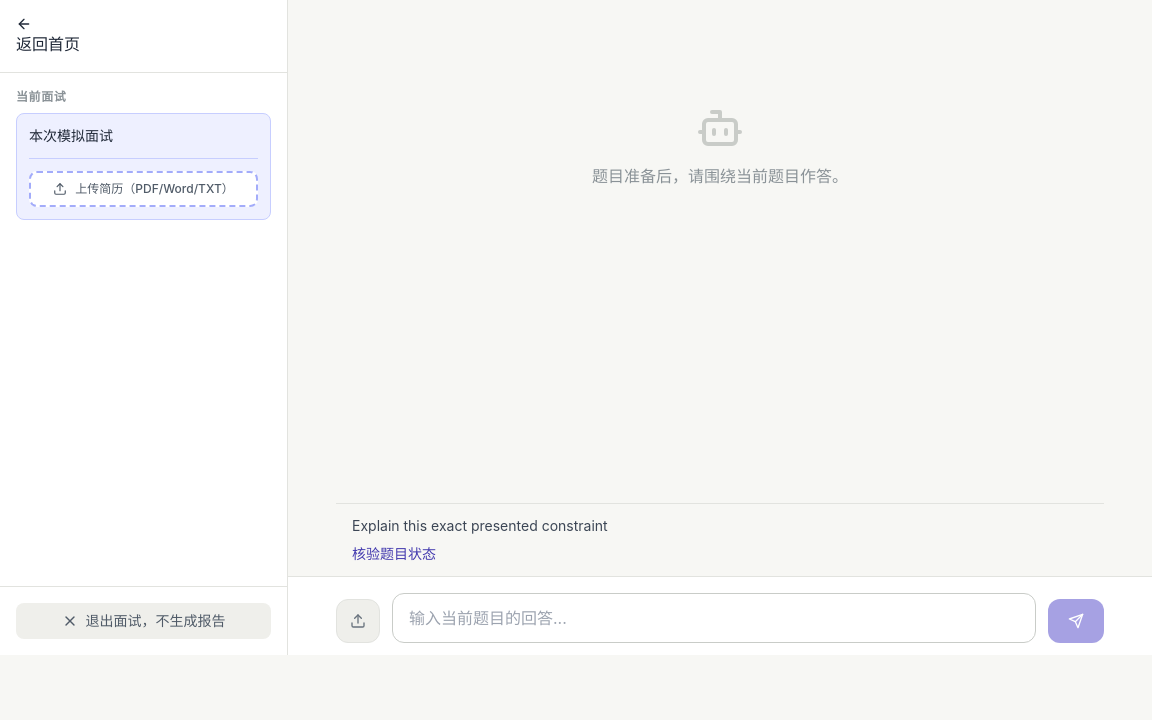
Test case: submits the exact durable presentation ID and reads the next current question
This screenshot has width=1152, height=720.
Type "Synthetic specific answer" into the text box. click: point(714, 618)
box: [392, 593, 1036, 643]
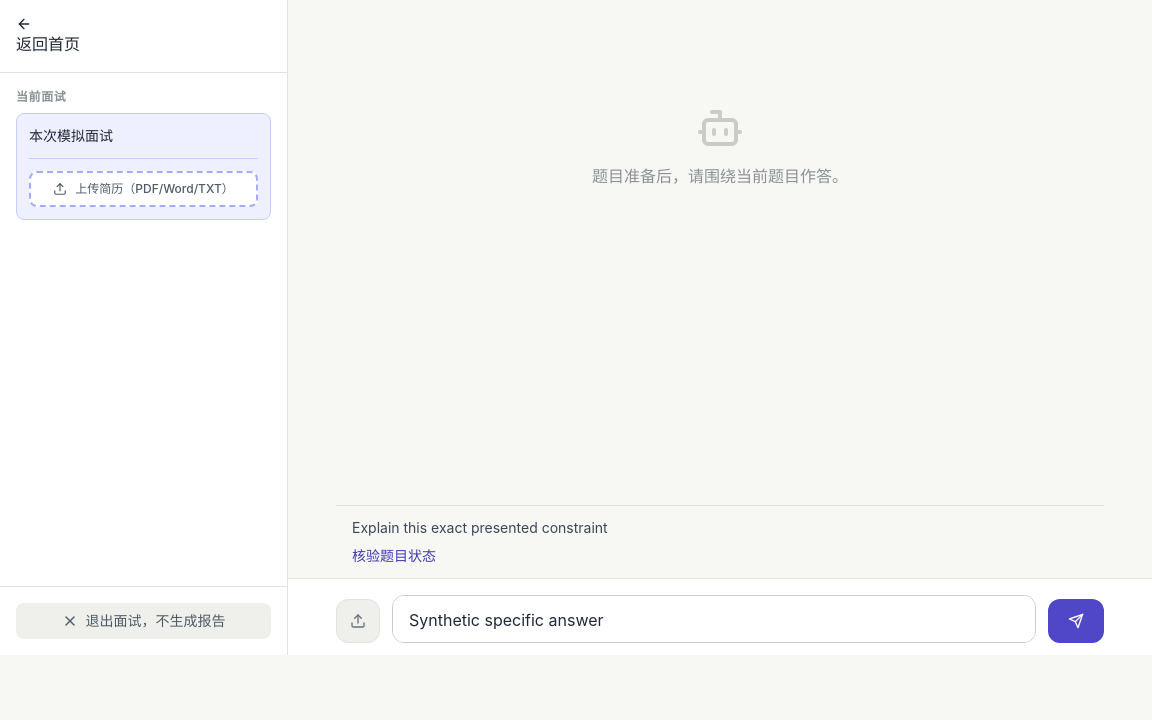
Press Enter in the text box, box [392, 595, 1036, 643]
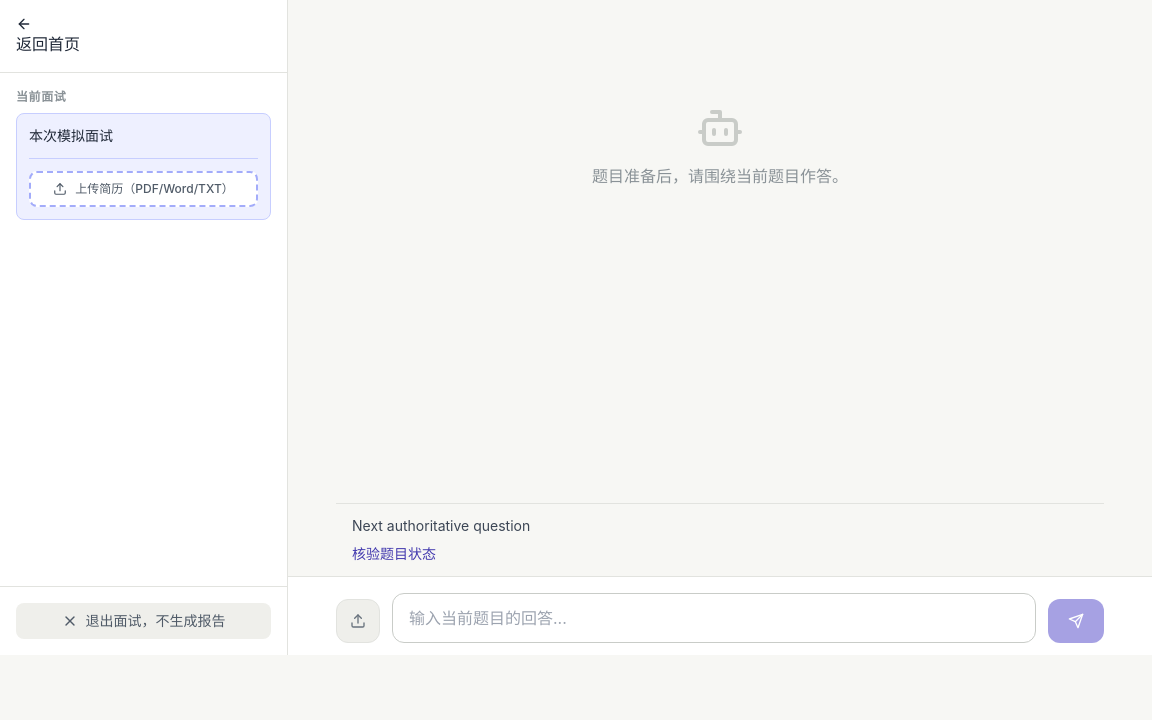
expect the element named "当前题目" shows "Next authoritative question": met, box [352, 517, 530, 534]
